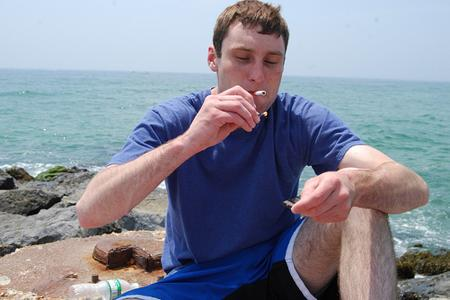person: (75, 4, 434, 298)
